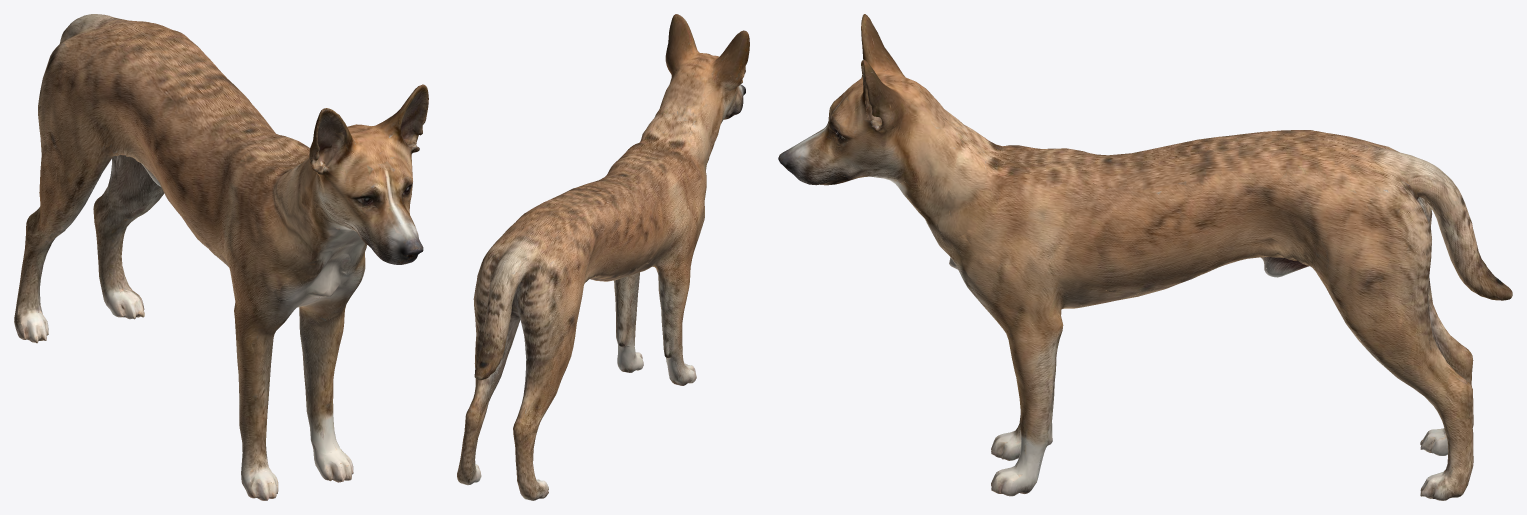
Rendered from street-dog.glb.
3 views of the same model, side by side, from view 1: azimuth 30°, elevation 25°; view 2: azimuth 150°, elevation 25°; view 3: azimuth 270°, elevation 25° (orthographic). The views are drawn at different scales.
Visible parts, largest first — view 1: street-dog_mesh; view 2: street-dog_mesh; view 3: street-dog_mesh.
Boxes of the visible parts, <box> form: street-dog_mesh: <box>14,14,428,500</box>; street-dog_mesh: <box>457,14,749,500</box>; street-dog_mesh: <box>778,14,1512,500</box>.
Bounding box in the file's own units: 0.3724 × 1.24 × 1.9.
1 material, 1 textured.
